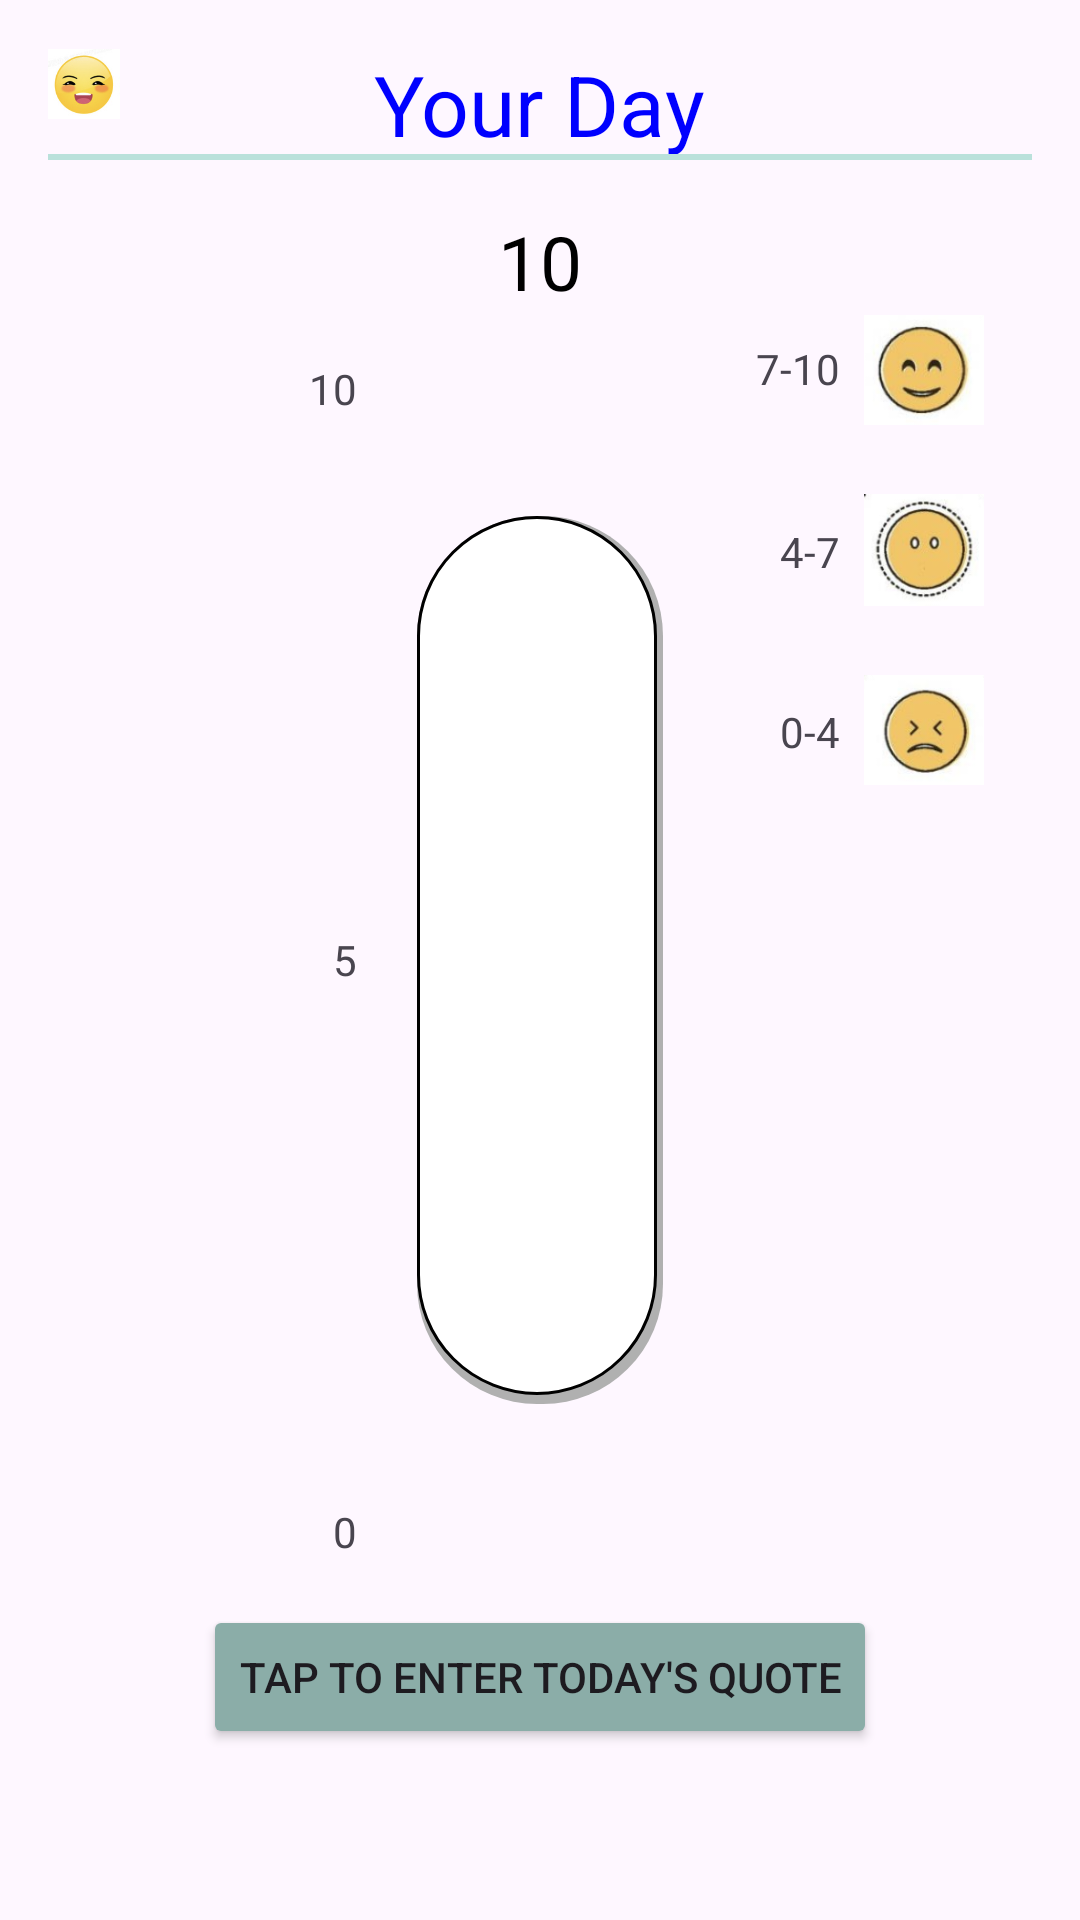

Icon bounding boxes for this 1080w x 1920h phone screenshot, format (x1, y1, x2, y2):
一般: (864, 494, 973, 598)
心情好: (878, 326, 969, 414)
心情差: (884, 689, 970, 773)
